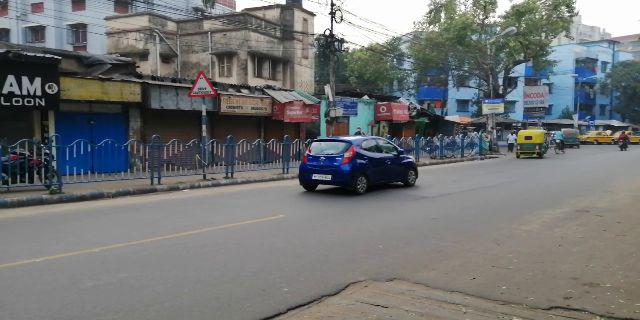Autorickshaw: (515, 129, 545, 158)
Car: (299, 134, 415, 192)
